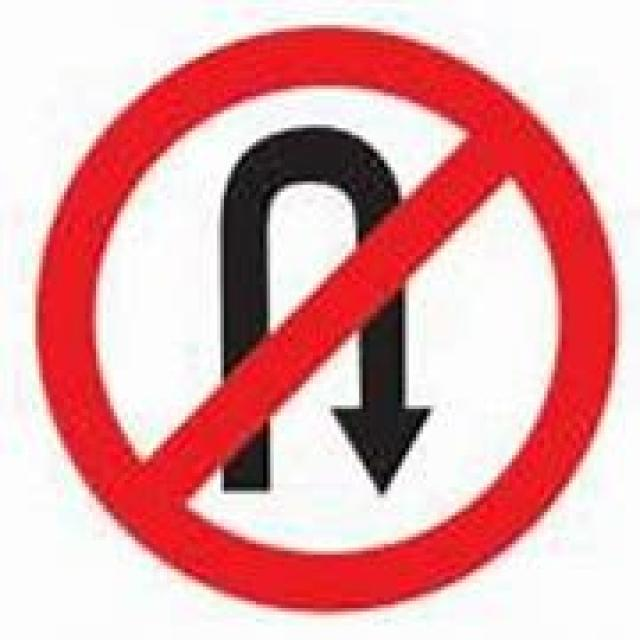u turn prohibited: (30, 23, 617, 606)
